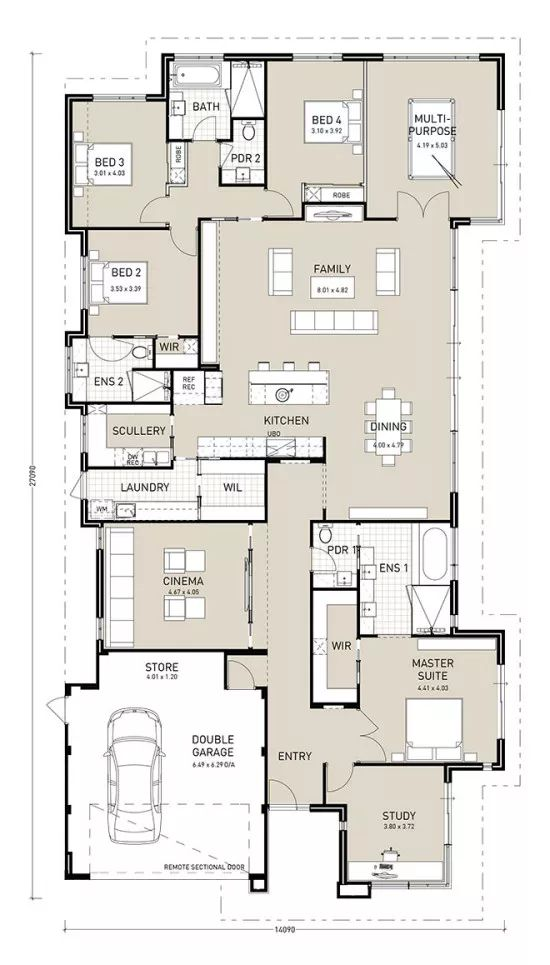door: (393, 188, 453, 216), (135, 195, 167, 225), (187, 110, 219, 140), (265, 188, 297, 218), (169, 228, 201, 258), (225, 659, 257, 688), (268, 777, 299, 803), (325, 766, 356, 792), (312, 545, 338, 573)
room: (96, 521, 253, 653), (355, 630, 504, 767), (264, 53, 368, 221), (339, 763, 453, 885), (65, 95, 168, 229), (80, 227, 201, 338)
